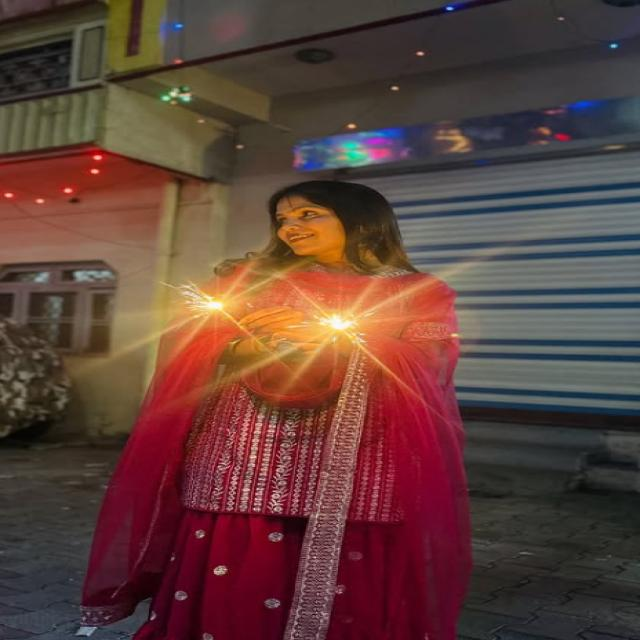fire: (159, 280, 225, 318)
